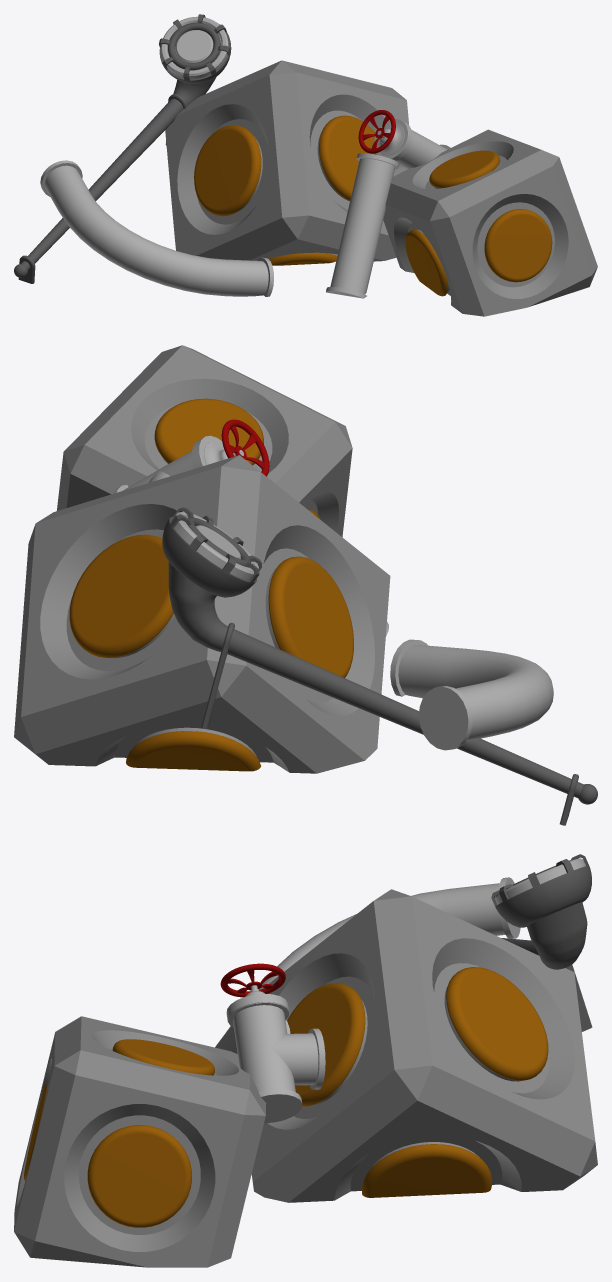
File: Lost Robot Ruble.fbx
3 views of the same model, one above another, from view 1: azimuth 30°, elevation 25°; view 2: azimuth 150°, elevation 25°; view 3: azimuth 270°, elevation 25° (orthographic). The views are drawn at different scales.
Parts seen in each view (by area): view 1: box2; view 2: box2; view 3: box2.
Part boxes in pixels (x1=…): box2: x1=14, y1=14, x2=597, y2=316; box2: x1=14, y1=345, x2=597, y2=825; box2: x1=14, y1=854, x2=597, y2=1267.
Size of the model in its own units: 12.82 by 5.01 by 10.22.
